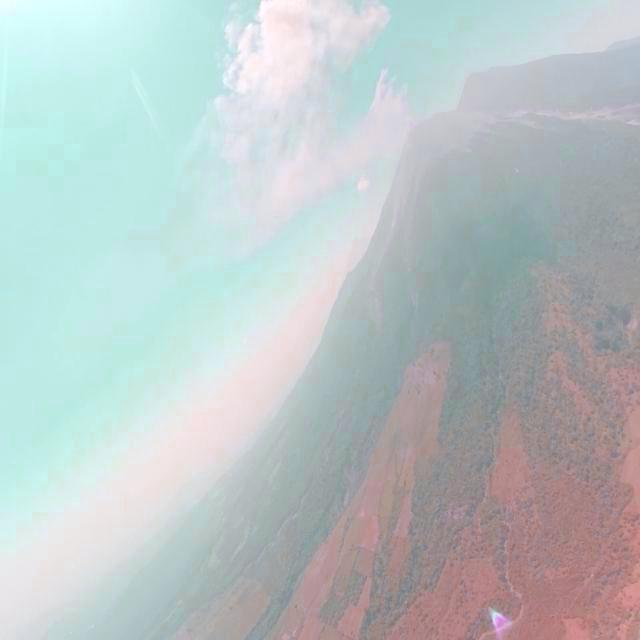Plume: (354, 56, 418, 166)
